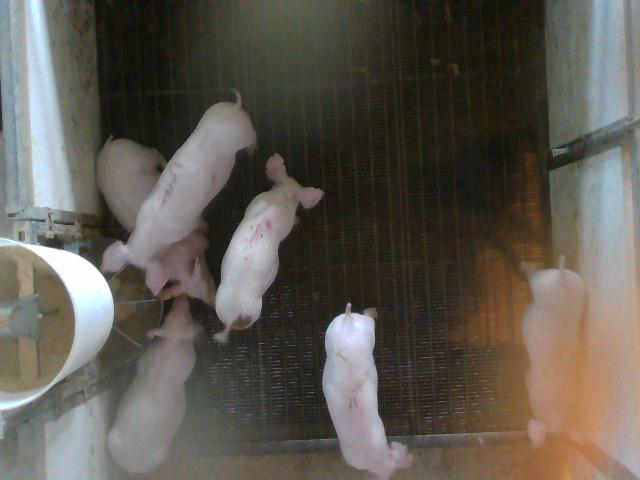pig-3: (103, 91, 256, 294)
pig-4: (522, 261, 586, 446)
pig-5: (214, 154, 324, 342)
